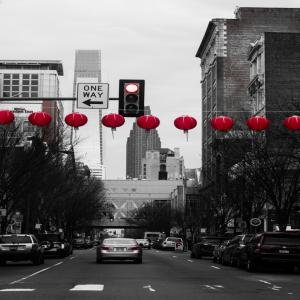Vehicle-registration-plate: (281, 250, 290, 254)
